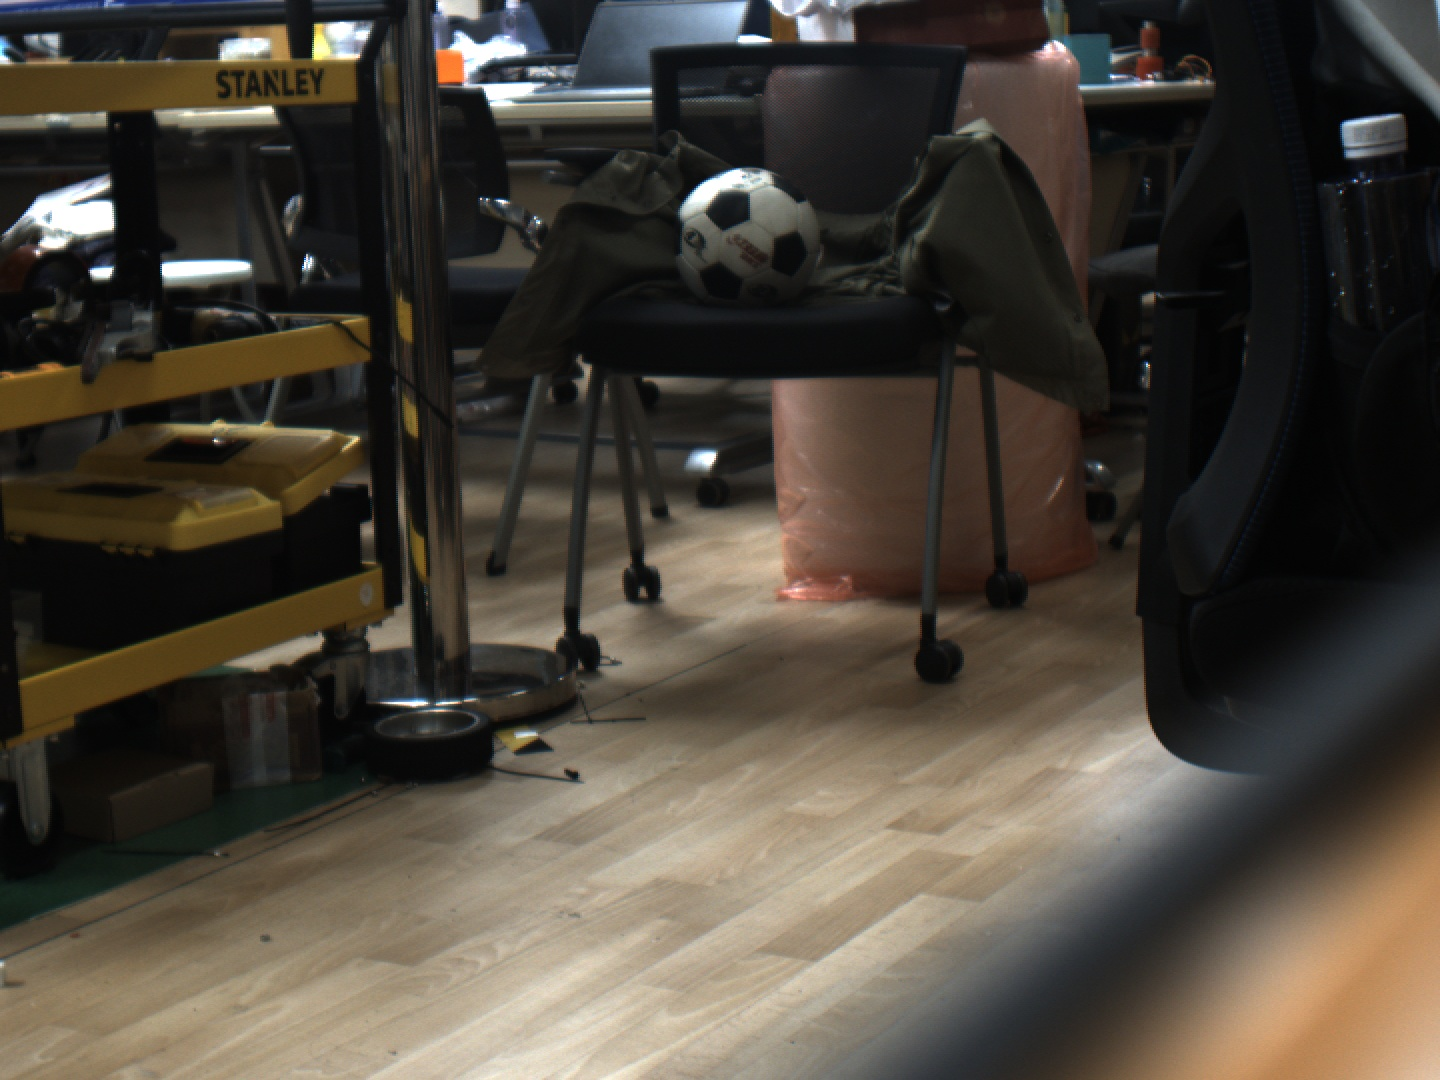ball: (652, 155, 840, 319)
